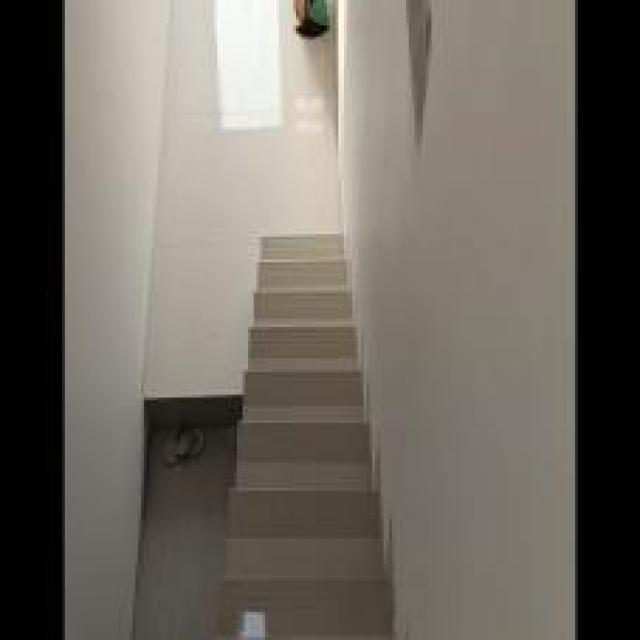downstair: (232, 207, 379, 638)
